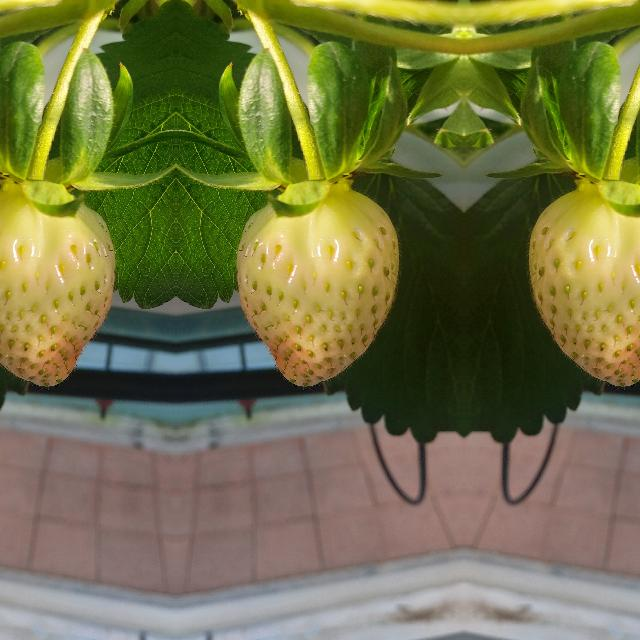Health_50: (236, 188, 397, 386), (0, 188, 114, 386), (529, 188, 640, 386)
